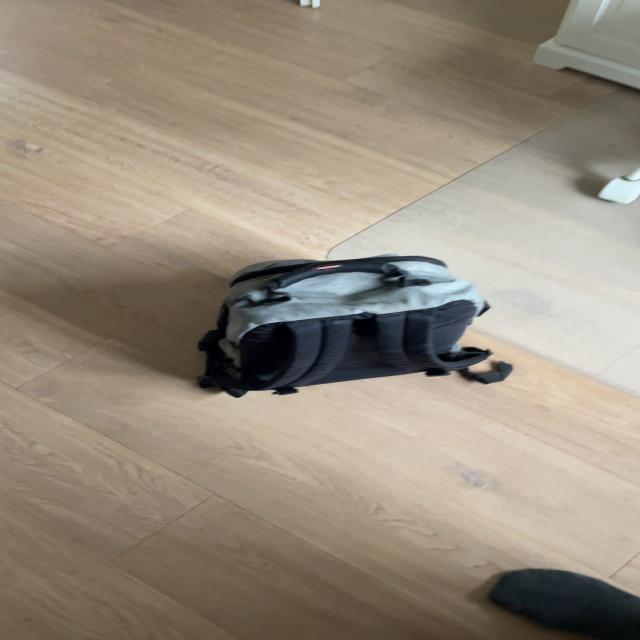backpack: (187, 247, 503, 402)
